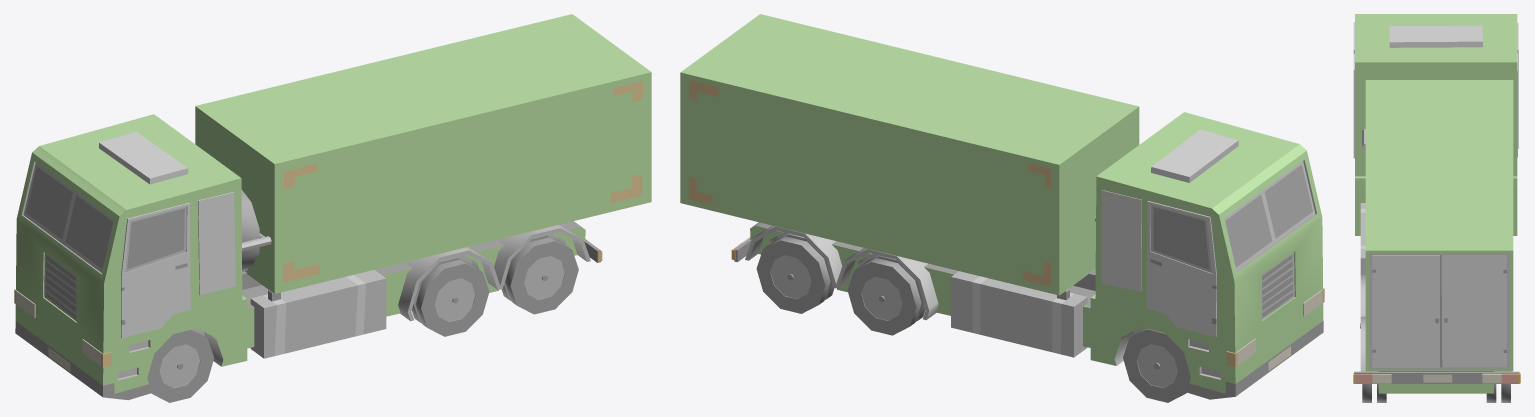
The model's file is kar8.fbx.
3 renders of one model, left to right at view 1: azimuth 30°, elevation 25°; view 2: azimuth 150°, elevation 25°; view 3: azimuth 270°, elevation 25°, orthographic. The views are drawn at different scales.
Parts seen in each view (by area): view 1: Boole, Extrude_1, Cylinder_4, Cylinder_3, Cylinder_1; view 2: Boole, Extrude_2, Cylinder_5, Cylinder, Cylinder_2; view 3: Boole, Cube, Cube_1, Cylinder, Cylinder_3.
Boxes of the visible parts, bbox=[...] form: Boole: bbox=[14, 14, 651, 400]; Extrude_1: bbox=[121, 202, 190, 337]; Cylinder_4: bbox=[411, 257, 489, 336]; Cylinder_3: bbox=[501, 235, 578, 314]; Cylinder_1: bbox=[147, 329, 214, 402]; Boole: bbox=[680, 14, 1324, 399]; Extrude_2: bbox=[1147, 201, 1216, 336]; Cylinder_5: bbox=[847, 255, 925, 335]; Cylinder: bbox=[756, 233, 834, 313]; Cylinder_2: bbox=[1123, 328, 1190, 402]; Boole: bbox=[1353, 14, 1520, 393]; Cube: bbox=[1372, 255, 1439, 367]; Cube_1: bbox=[1440, 255, 1506, 367]; Cylinder: bbox=[1486, 384, 1510, 402]; Cylinder_3: bbox=[1362, 384, 1386, 402].
Size of the model in its own units: 896 by 333 by 251.
